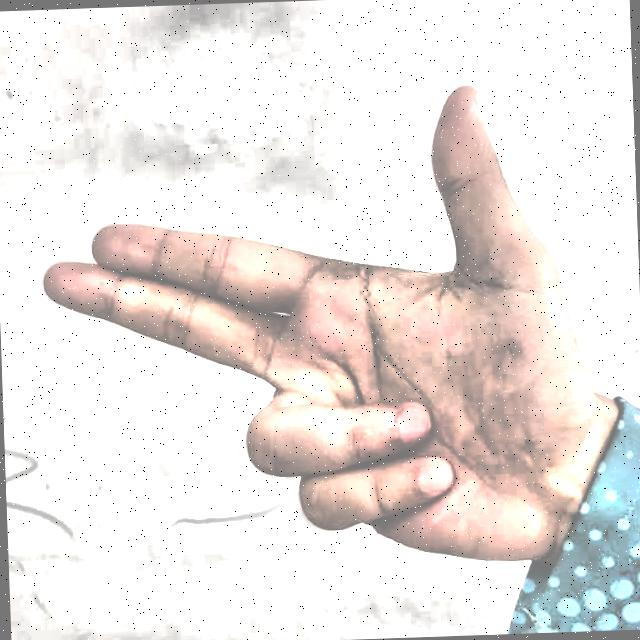Jha: (19, 29, 617, 640)
